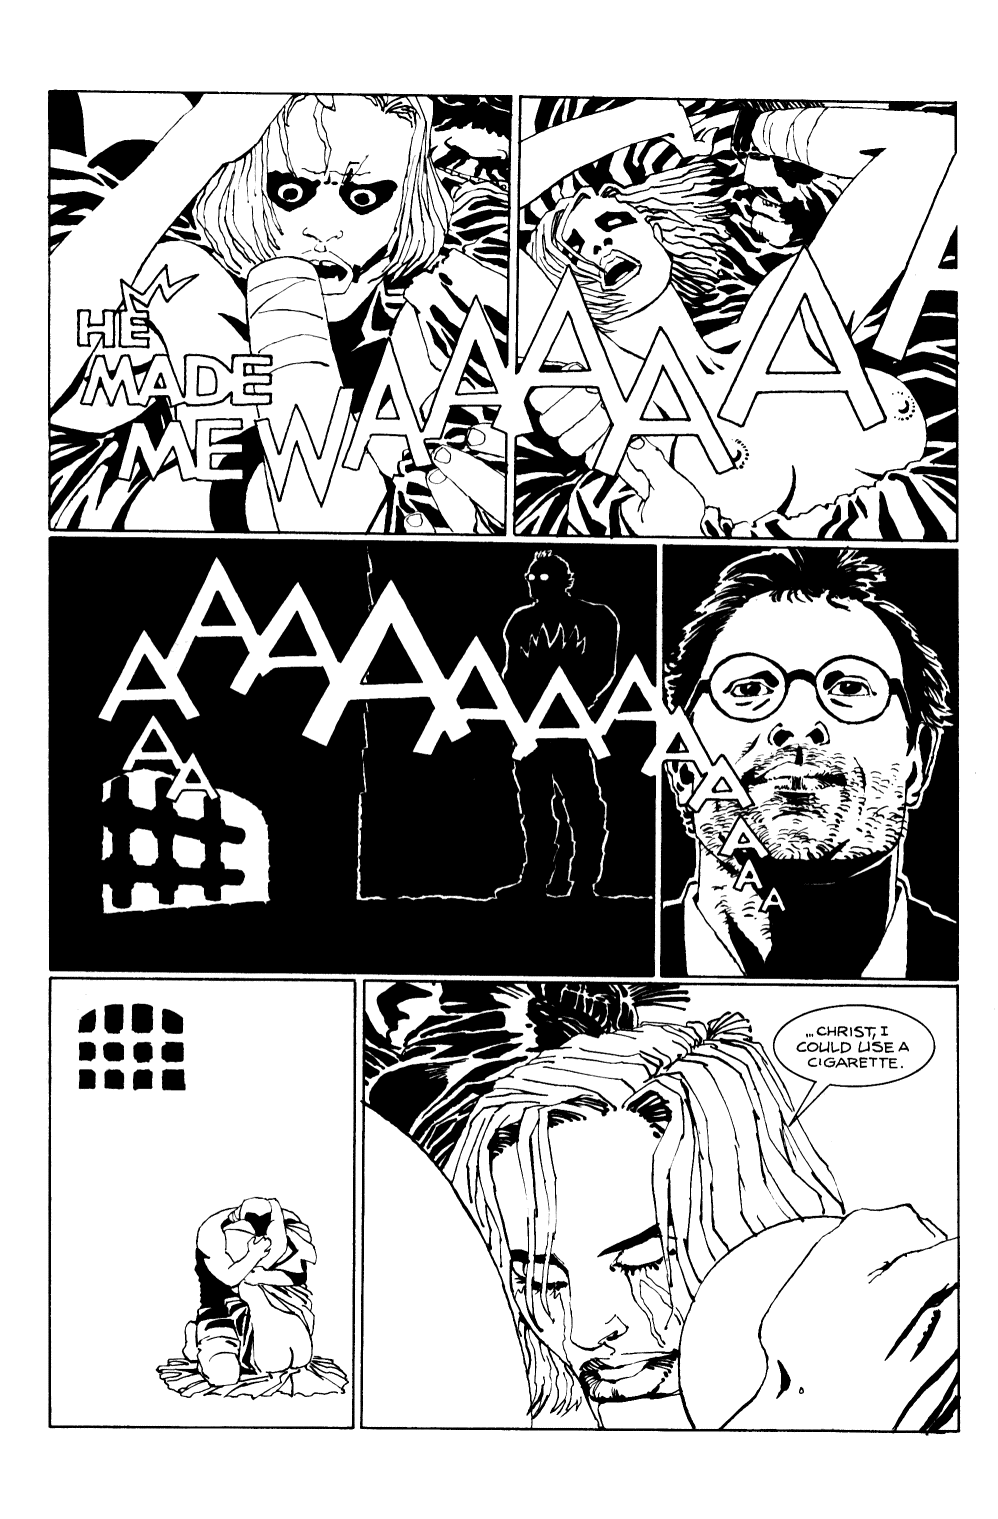Baloon: (763, 1004, 935, 1133)
Vignetta: (358, 987, 956, 1429), (51, 538, 656, 973), (49, 87, 507, 533), (512, 98, 956, 545), (49, 980, 354, 1424), (665, 549, 958, 980)
